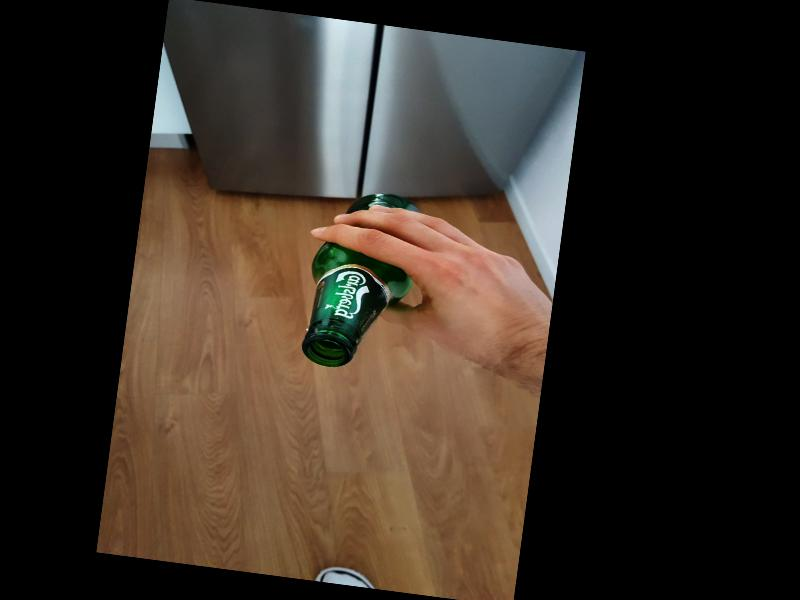Beer: (300, 186, 422, 376)
